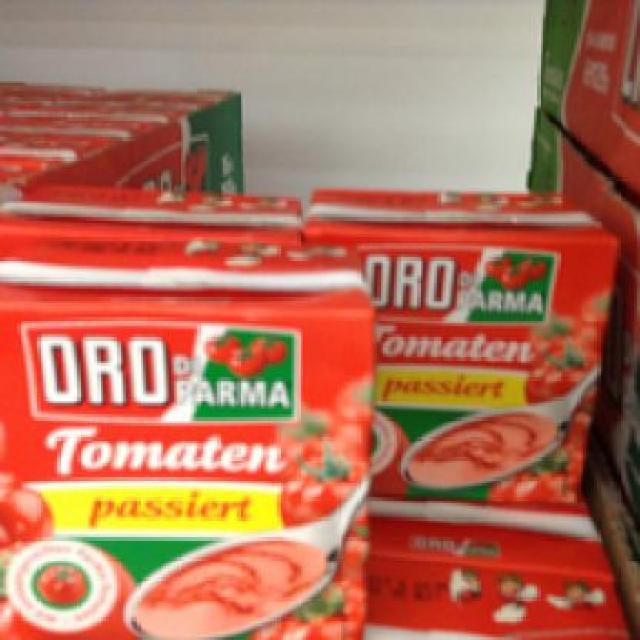Tomato Sauce: (0, 227, 375, 638), (305, 177, 618, 506)
